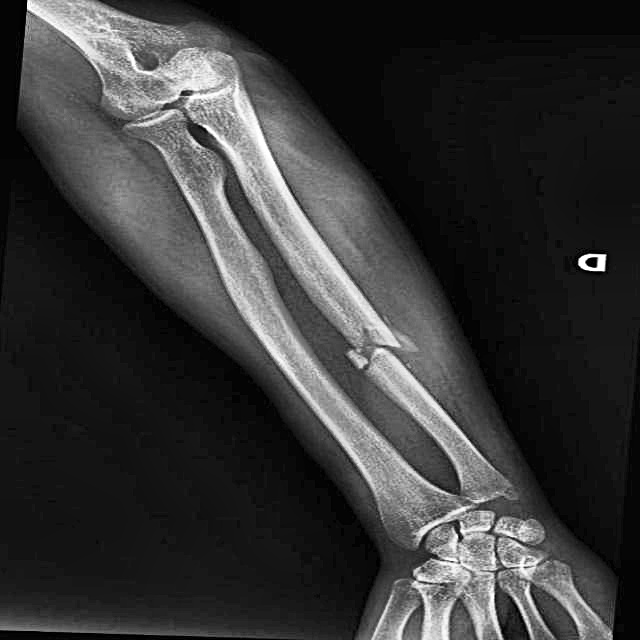Comminuted: (319, 315, 455, 389)
